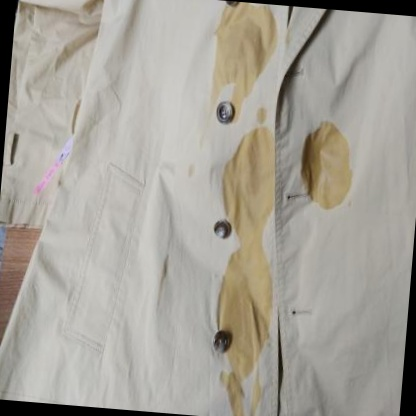coffee: (222, 133, 279, 225), (232, 256, 273, 351), (218, 9, 271, 78), (300, 131, 352, 200)
